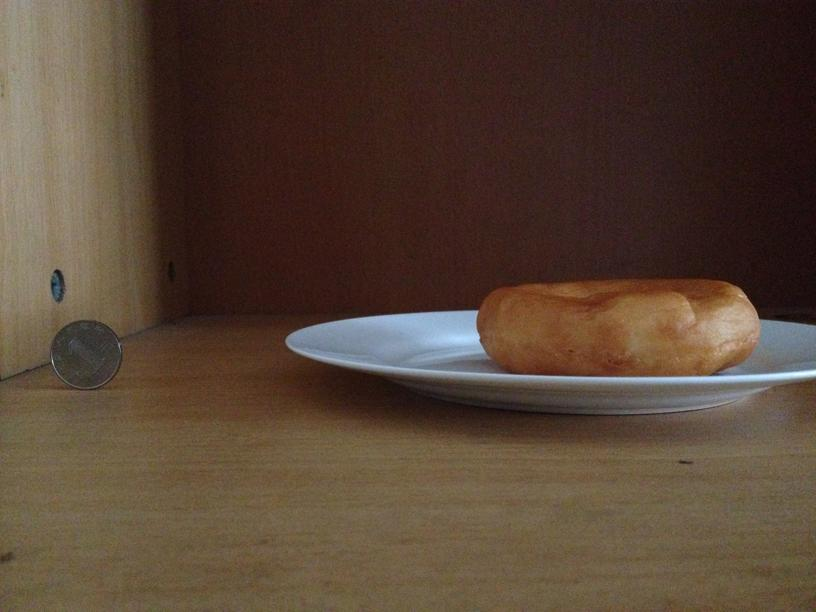coin: (49, 317, 121, 388)
doughnut: (476, 282, 759, 372)
